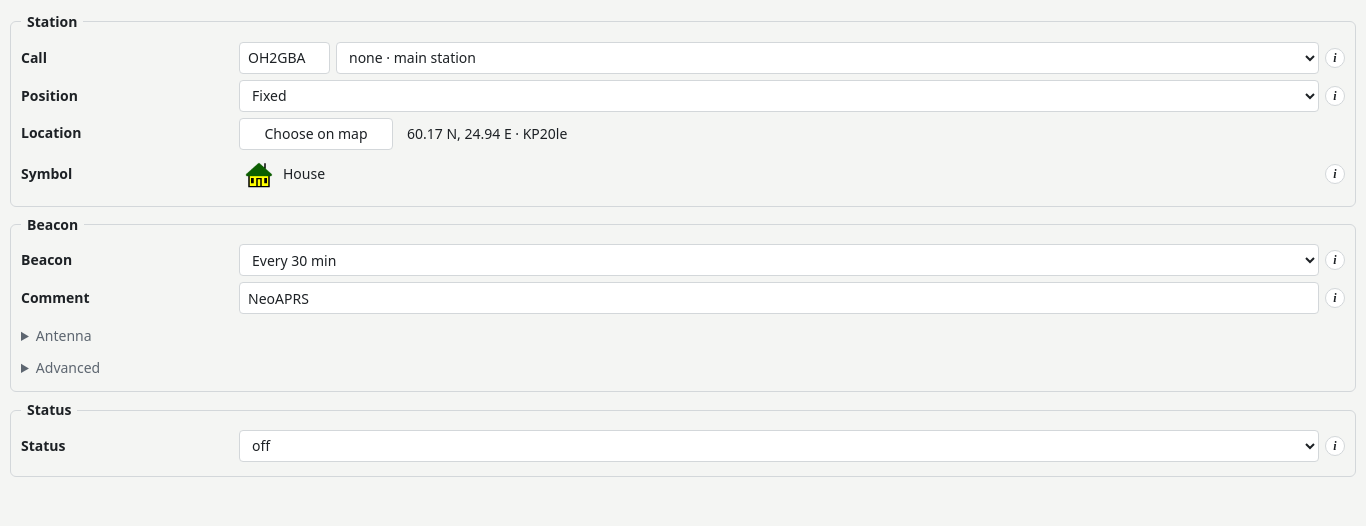
Test: SettingsForm › the position choice of the Station group of the My station tab › the port of a serial receiver › appears when A GPS on a serial port is chosen, though the port is still empty
The width and height of the screenshot is (1366, 526).
Select "A GPS on a serial port" in the dropdown with id "set-gps-source". click: (779, 96)
box: [239,80,1319,112]
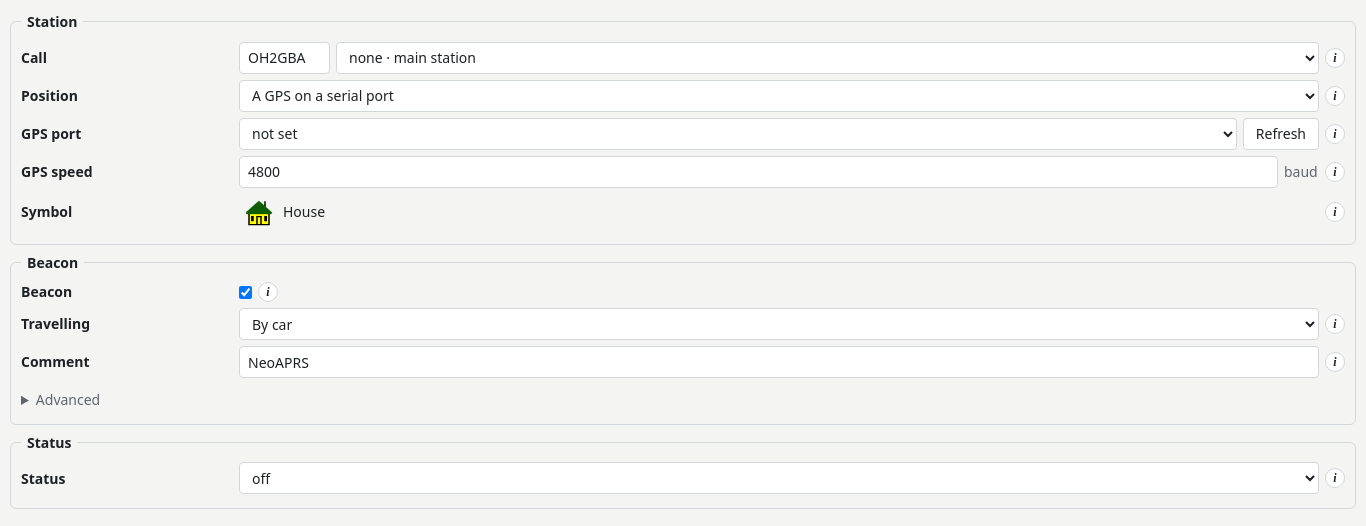
Expected: the dropdown with id "set-gps-device" is shown, [239,118,1237,150]
